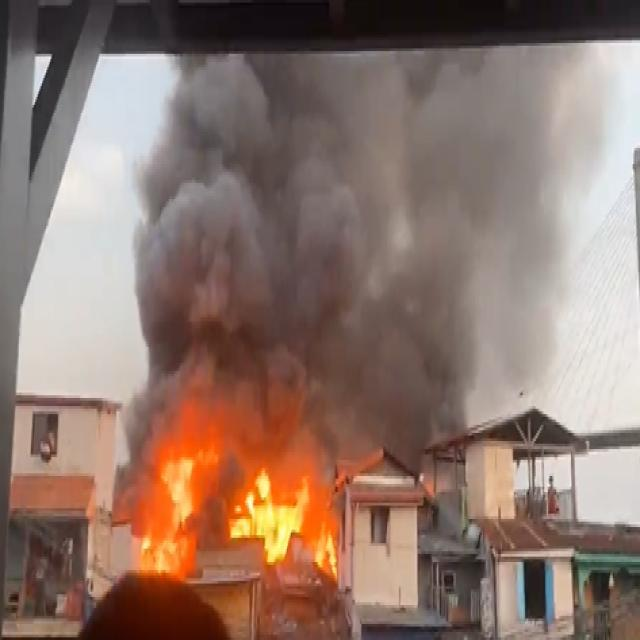Fire: (130, 431, 344, 594)
Smoke: (306, 44, 576, 410), (144, 51, 348, 472)
